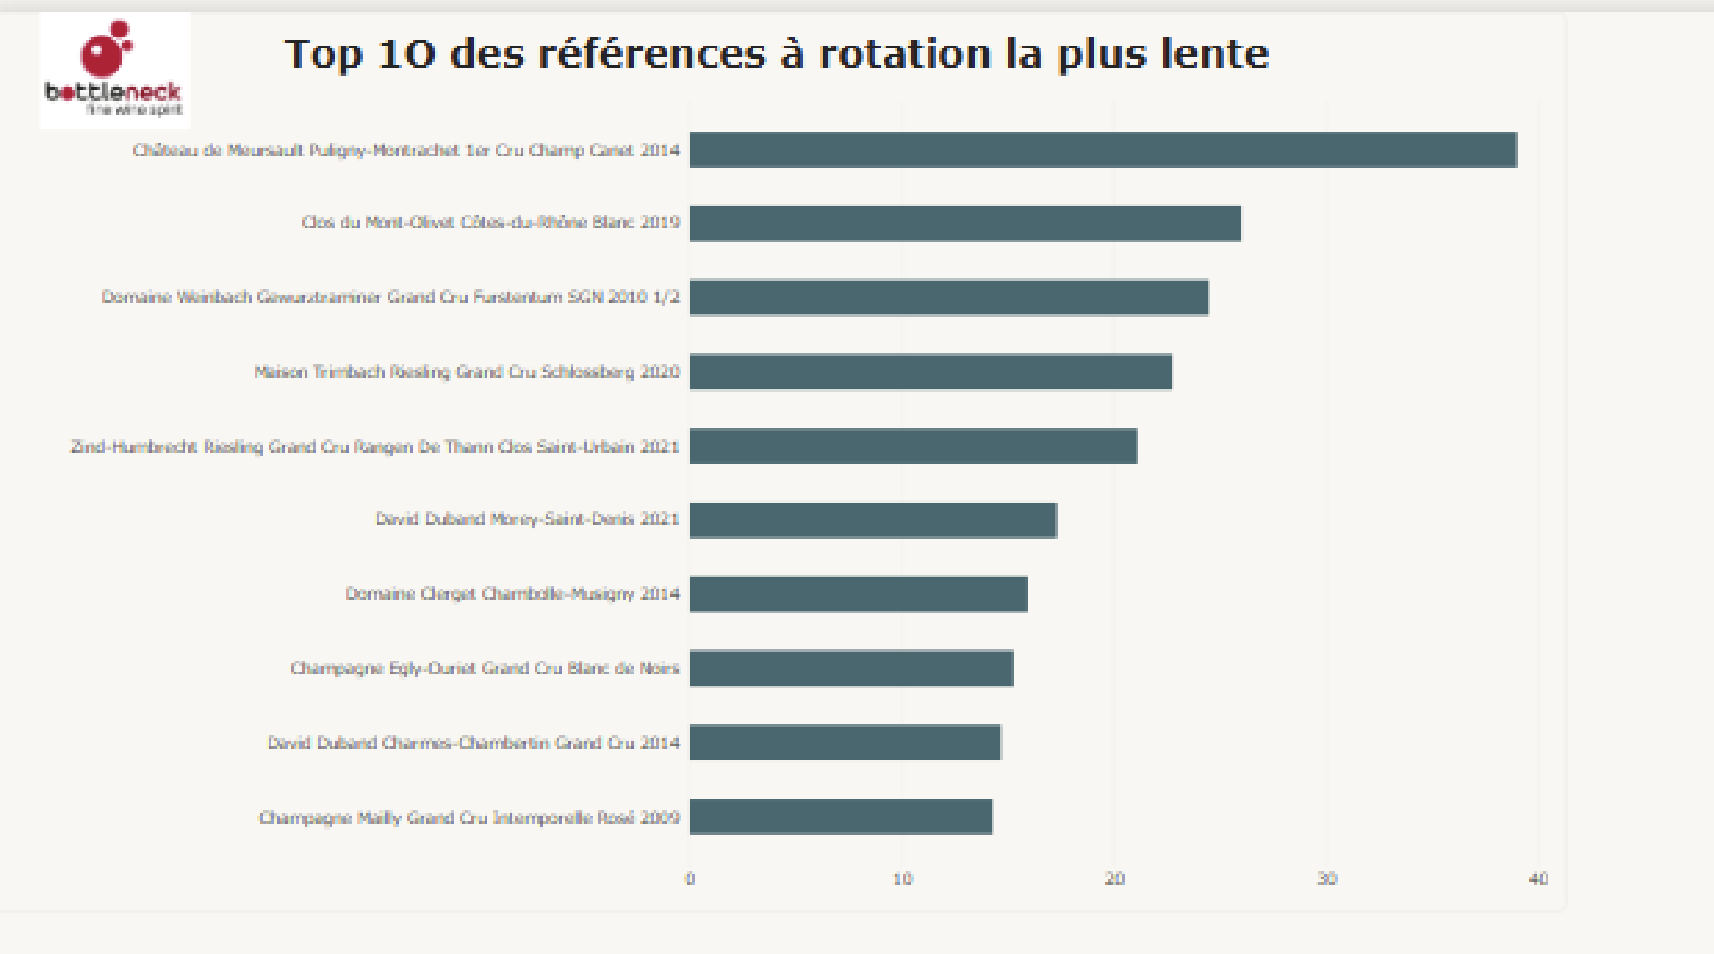

What the dashboard file says about the page in this screenshot:
{"tool":"powerbi","page":{"name":"Stock","canvas":[1920,1080],"ordinal":2},"visuals":[{"type":"clusteredBarChart","title":"Top 1O des références à rotation la plus lente","fields":{"Category":["Web.Post_title"],"Y":["Finance.Mois de stock"]},"box":[0,0,1429.5,812.3],"z":0},{"type":"image","box":[0,0,238,106],"z":1}]}

Visuals, with their boxes in screenshot pixels (x1, y1, x2, y2), scaled from the page's 1920x1080 canvas onto the 1714x954 screenshot:
"Top 1O des références à rotation la plus lente" clusteredBarChart: 0, 0, 1276, 718
image: 0, 0, 212, 94
